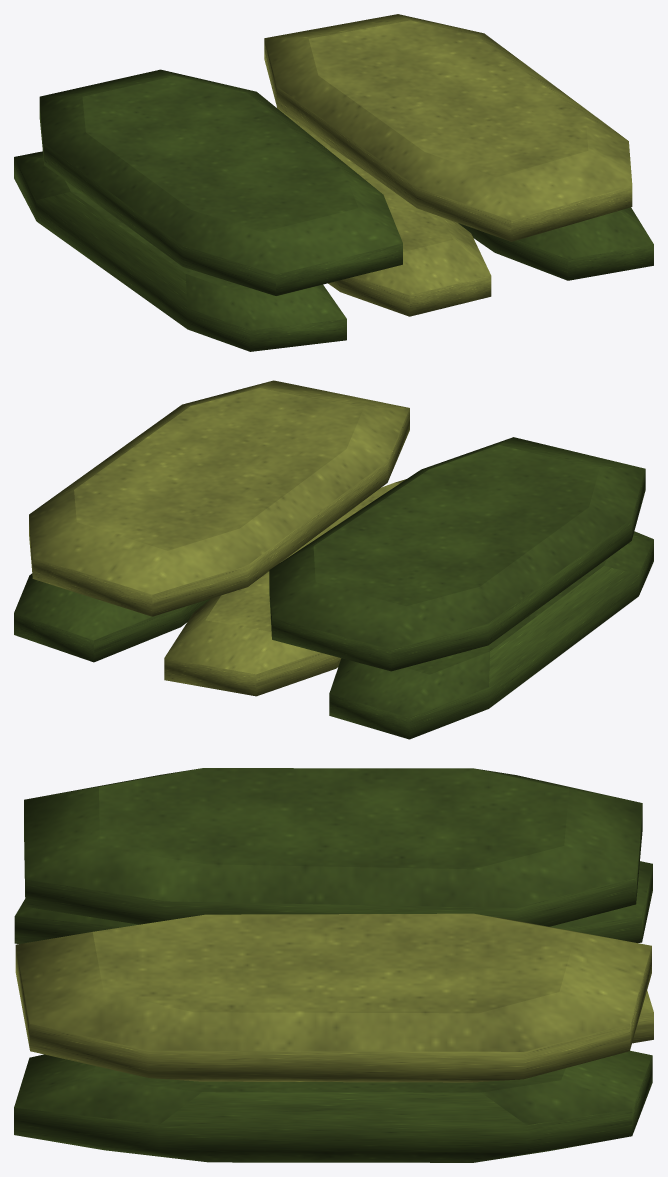
File: foundation-1.fbx
The picture shows the model from 3 angles, top to bottom: view 1: azimuth 30°, elevation 25°; view 2: azimuth 150°, elevation 25°; view 3: azimuth 270°, elevation 25°; orthographic projection. The views are drawn at different scales.
Visible parts, largest first — view 1: foundation-1__Geometry; view 2: foundation-1__Geometry; view 3: foundation-1__Geometry.
Part boxes in pixels (x1=…): foundation-1__Geometry: x1=14, y1=14, x2=653, y2=351; foundation-1__Geometry: x1=14, y1=380, x2=653, y2=739; foundation-1__Geometry: x1=14, y1=768, x2=653, y2=1162.
Bounding box in the file's own units: 0.9687 × 0.2364 × 0.9376.
1 material, 1 textured.
